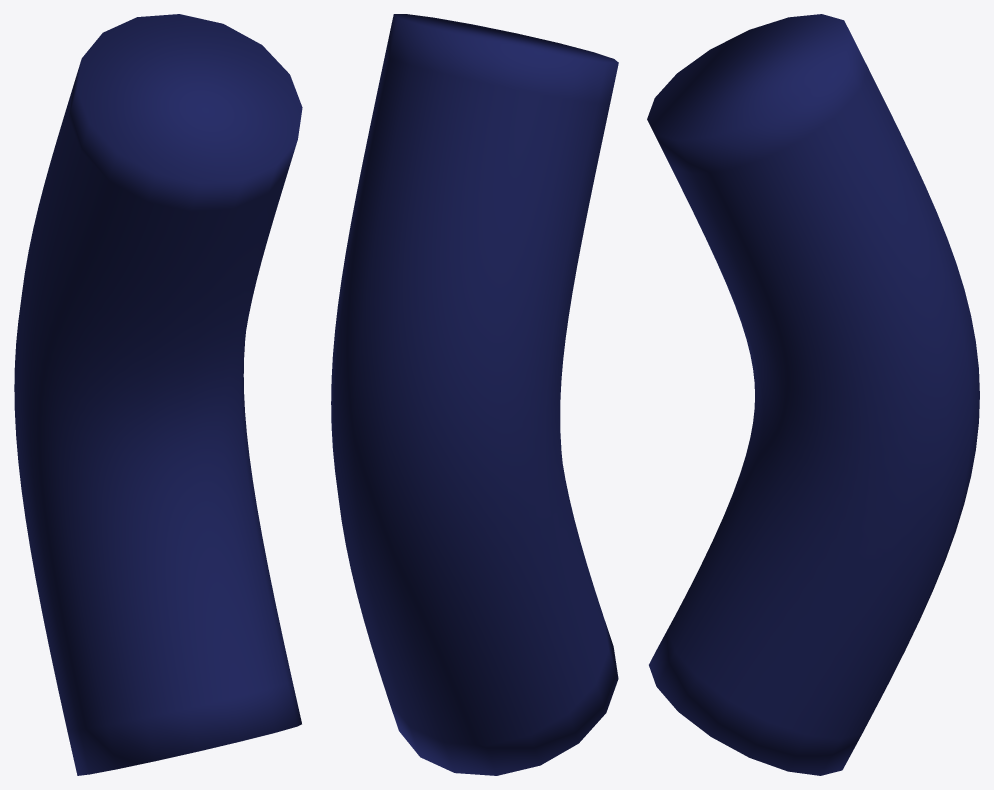
File: Volume1.fbx
3 views of the same model, side by side, from view 1: azimuth 30°, elevation 25°; view 2: azimuth 150°, elevation 25°; view 3: azimuth 270°, elevation 25° (orthographic). The views are drawn at different scales.
Visible parts, largest first — view 1: Volume1; view 2: Volume1; view 3: Volume1.
Boxes of the visible parts, left/top/right/bottom form: Volume1: left=14, top=14, right=302, bottom=775; Volume1: left=331, top=14, right=618, bottom=775; Volume1: left=647, top=14, right=979, bottom=775.
Size of the model in its own units: 32.2 by 114 by 47.68.
